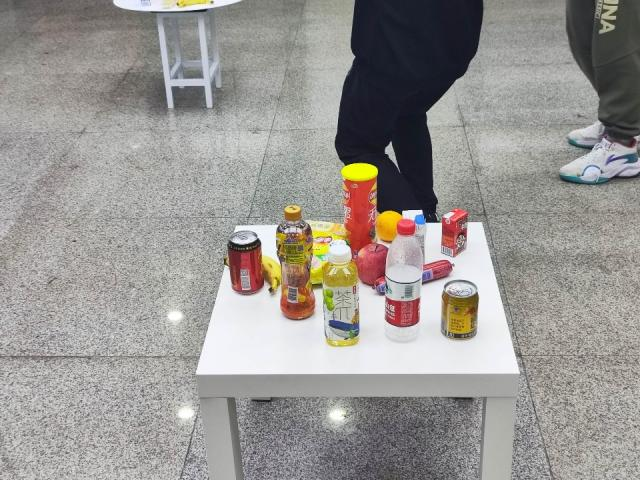Canned_drinks: (223, 230, 266, 294), (440, 276, 483, 340)
bottle: (384, 220, 420, 349)
cylinder: (340, 162, 376, 246)
drink_box: (438, 210, 471, 259)
